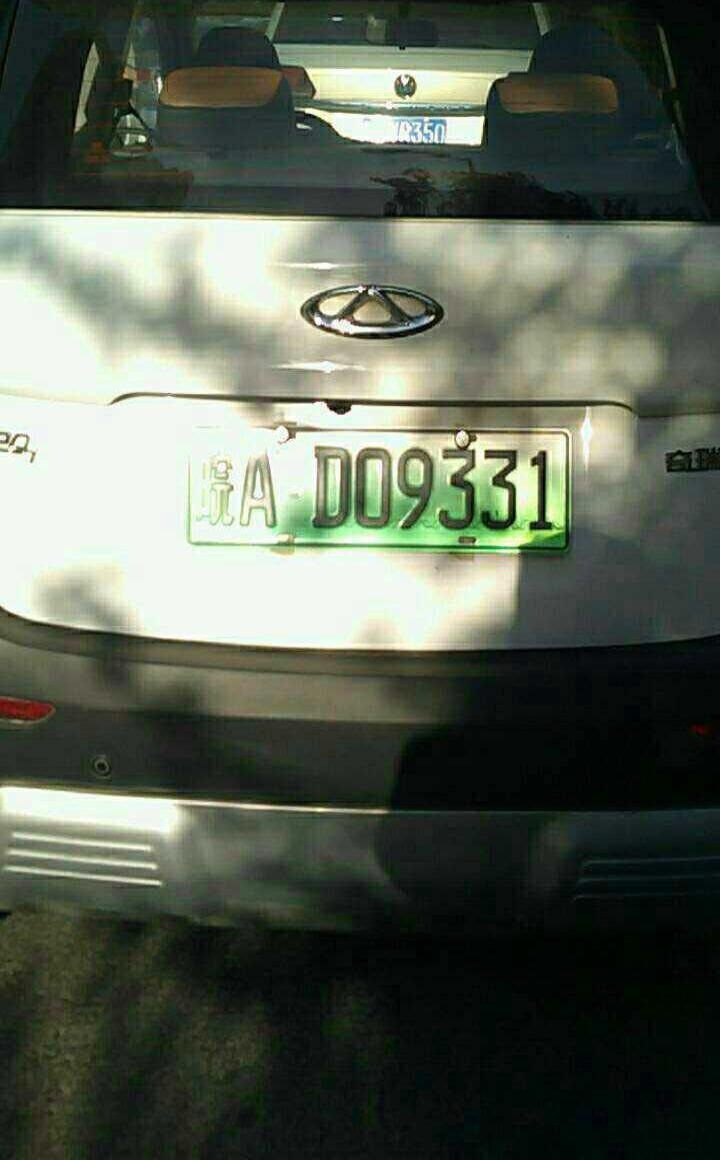car_id: (185, 428, 570, 547)
